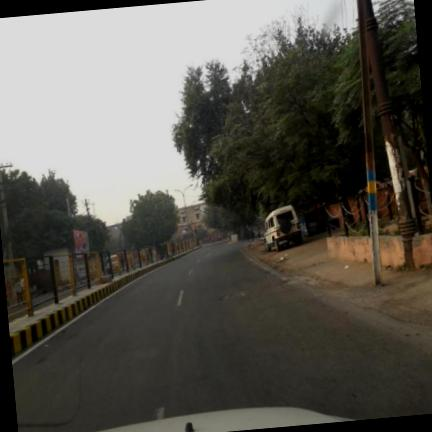Road: (12, 244, 431, 431)
